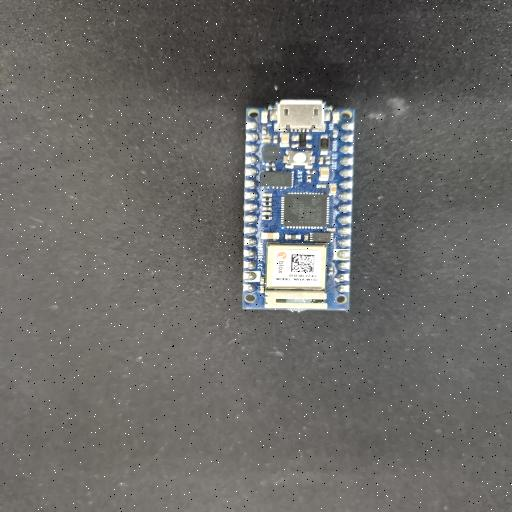arduino-nano-iot-33: (240, 104, 354, 315)
